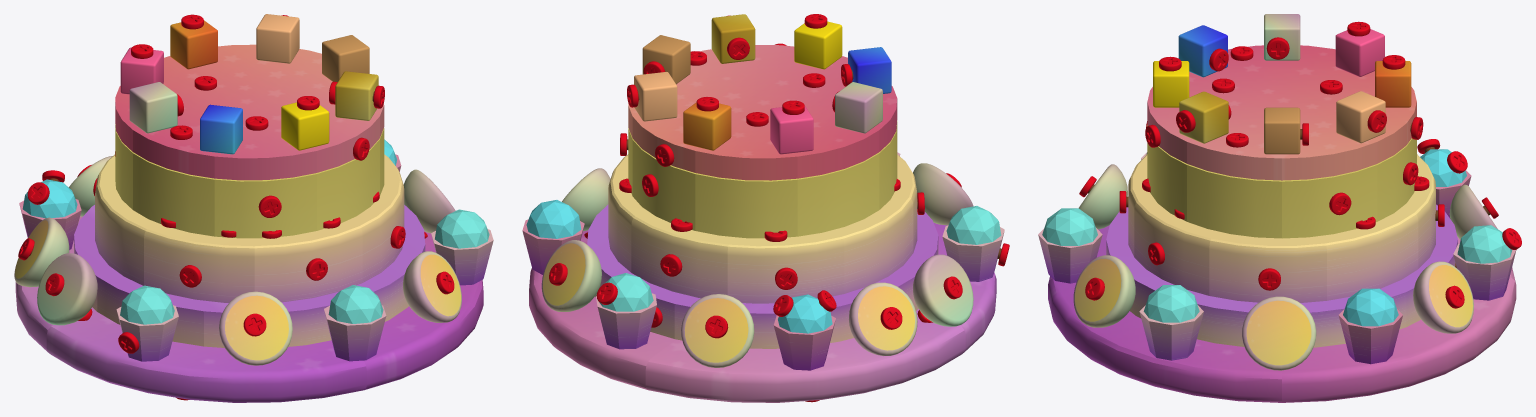
The model's file is lvl_83.fbx.
3 renders of one model, left to right at view 1: azimuth 30°, elevation 25°; view 2: azimuth 150°, elevation 25°; view 3: azimuth 270°, elevation 25°, orthographic.
Parts seen in each view (by area): view 1: Cube_L1_17, Cube_L4_4, Cube_L4_3, Cube_L1_18, Cube_L2_24, Cube_L2_25, Cube_L1_2, Cube_L2_13, Cube_L4_5, Cube_L2_23, Cube_L4_2, Cube_L2_12 (+35 smaller); view 2: Cube_L1_16, Cube_L4_6, Cube_L4_7, Cube_L2_19, Cube_L1_19, Cube_L4_5, Cube_L2_26, Cube_L1_7, Cube_L2_17, Cube_L2_18, Cube_L1, Cube_L2_20 (+36 smaller); view 3: Cube_L1_19, Cube_L1_18, Cube_L4_1, Cube_L4, Cube_L2_22, Cube_L2_21, Cube_L4_2, Cube_L2_15, Cube_L1_5, Cube_L1_4, Cube_L2_14, Cube_L2_16 (+35 smaller).
Part boxes in pixels (x1,y1,x2,y2): Cube_L1_17: (46,313,366,402); Cube_L4_4: (144,223,254,302); Cube_L4_3: (254,221,362,302); Cube_L1_18: (364,233,483,389); Cube_L2_24: (214,173,316,238); Cube_L2_25: (133,153,214,236); Cube_L1_2: (214,102,316,180); Cube_L2_13: (219,291,292,365); Cube_L4_5: (95,184,158,285); Cube_L2_23: (316,139,379,230); Cube_L4_2: (347,180,404,282); Cube_L2_12: (37,253,97,325); Cube_L1_16: (645,314,965,402); Cube_L4_6: (727,230,844,303); Cube_L4_7: (631,212,732,298); Cube_L2_19: (695,173,797,238); Cube_L1_19: (529,232,676,389); Cube_L4_5: (832,195,913,293); Cube_L2_26: (797,153,879,236); Cube_L1_7: (695,101,797,180); Cube_L2_17: (681,294,754,367); Cube_L2_18: (848,282,917,356); Cube_L1: (763,101,879,178); Cube_L2_20: (632,139,695,230); Cube_L1_19: (1282,277,1516,402); Cube_L1_18: (1048,278,1281,402); Cube_L4_1: (1209,232,1326,302); Cube_L4: (1320,209,1418,300); Cube_L2_22: (1187,164,1281,238); Cube_L2_21: (1282,164,1377,238); Cube_L4_2: (1134,199,1219,295); Cube_L2_15: (1242,296,1316,370); Cube_L1_5: (1282,101,1377,180); Cube_L1_4: (1187,102,1281,180); Cube_L2_14: (1073,255,1135,327); Cube_L2_16: (1413,261,1473,333).
Bounding box in the file's own units: 14.52 × 8.71 × 14.96.
